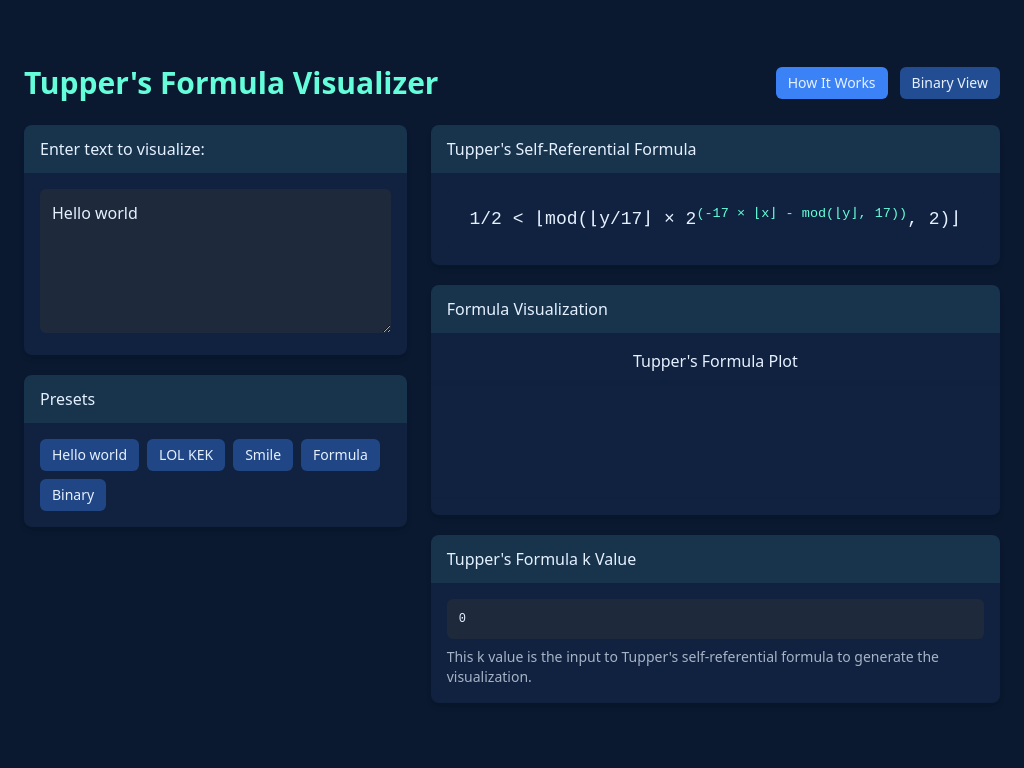
Test case: App component › closes wizard modal with X button
Click the button "How It Works".
click(832, 83)  # box x1=776 y1=67 x2=888 y2=99
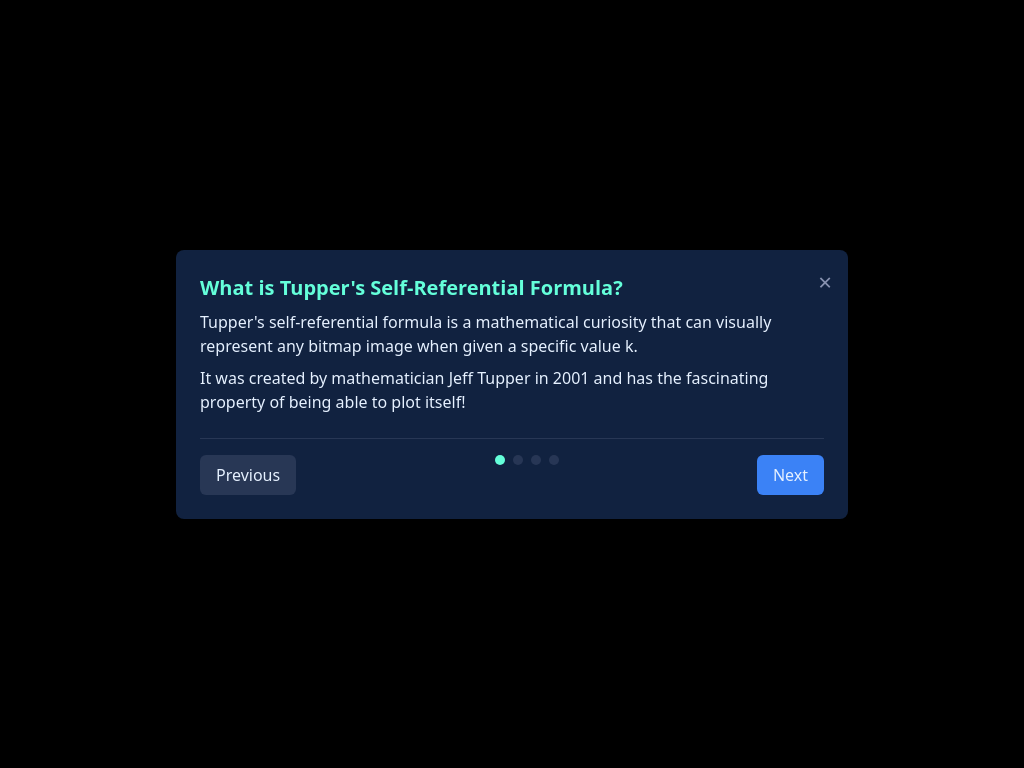
Click the button "×".
click(825, 282)  # box x1=814 y1=262 x2=836 y2=302
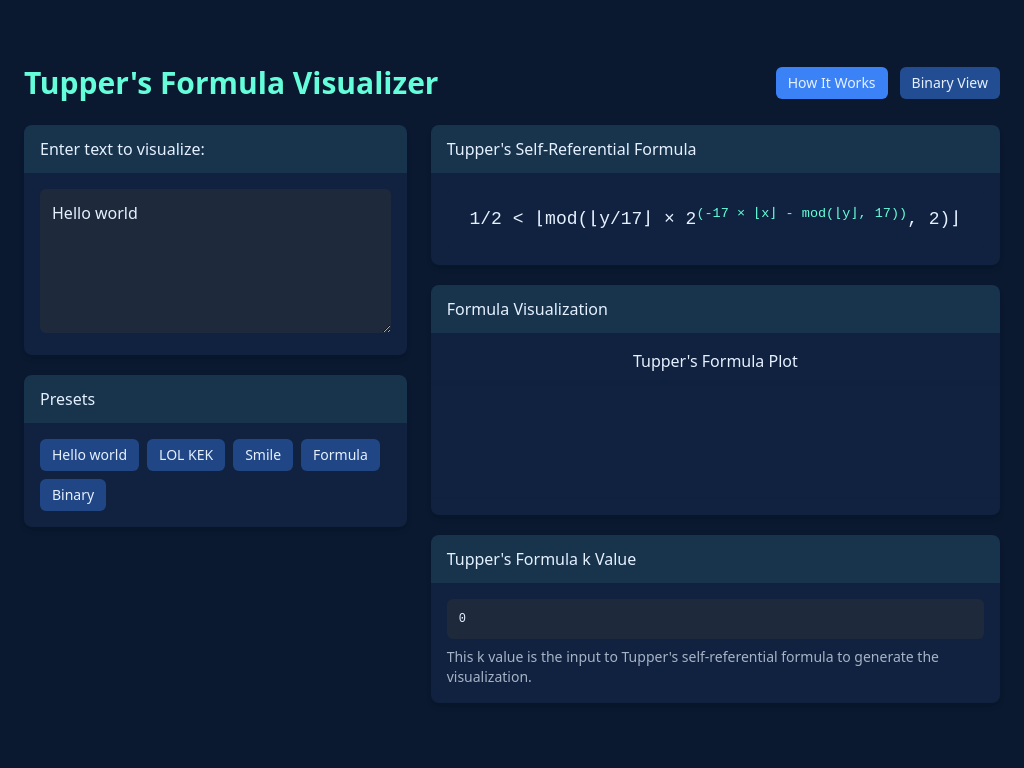
Result: the heading "What is Tupper's Self-Referential Formula" is gone
